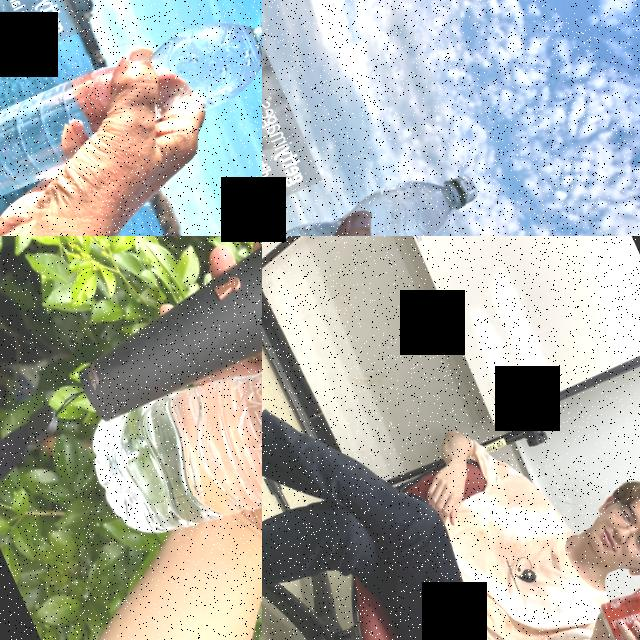bottle: (74, 255, 262, 601), (0, 0, 262, 231), (262, 155, 485, 236)
can: (595, 568, 640, 640)
